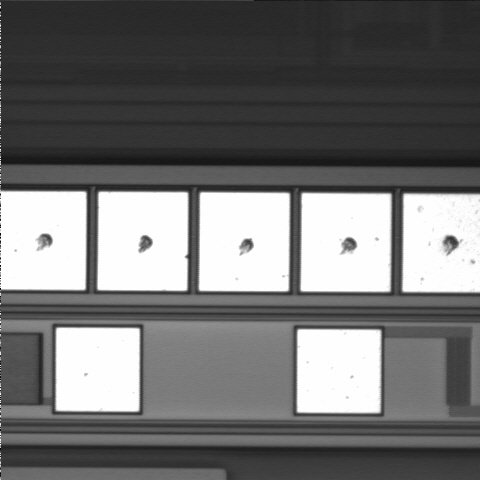pad: (199, 193, 290, 291), (98, 192, 188, 291), (301, 193, 391, 292), (297, 329, 381, 413), (56, 328, 140, 411)
